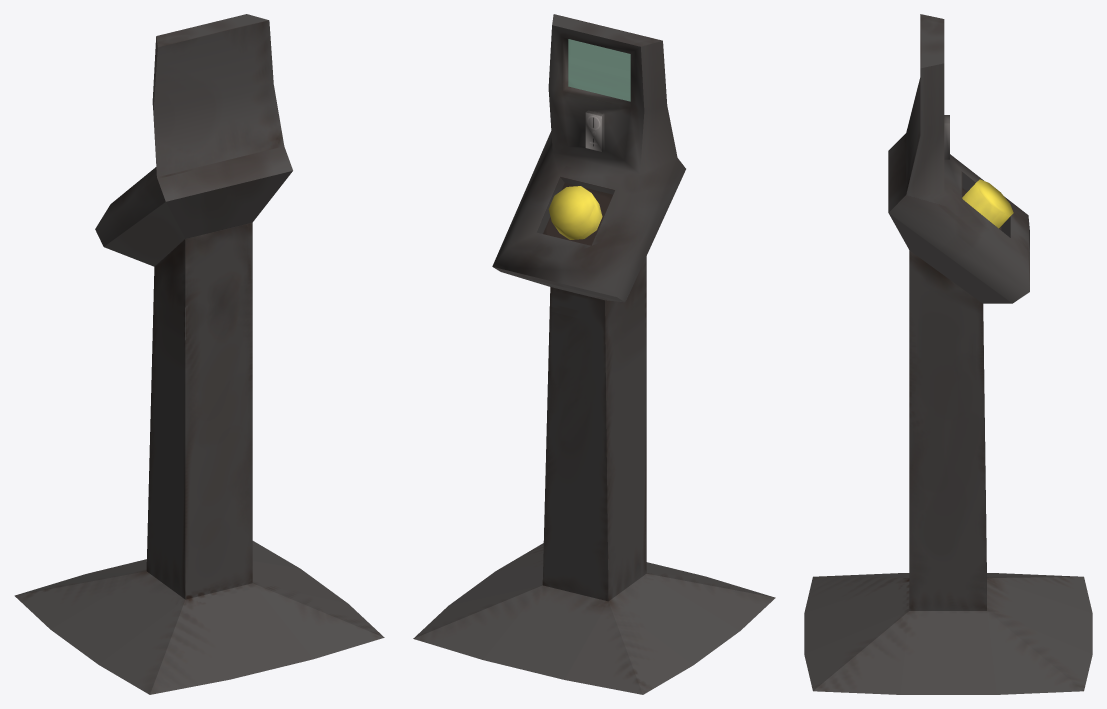
File: BotonComprar4.fbx
3 views of the same model, side by side, from view 1: azimuth 30°, elevation 25°; view 2: azimuth 150°, elevation 25°; view 3: azimuth 270°, elevation 25° (orthographic). The views are drawn at different scales.
Visible parts, largest first — view 1: Cube; view 2: Cube, Cube.001; view 3: Cube, Cube.001.
Boxes of the visible parts, x1,y1,x2,y2 form: Cube: (14,14,384,694); Cube: (413,14,775,694); Cube.001: (548,186,602,239); Cube: (804,14,1092,694); Cube.001: (962,179,1013,228).
Bounding box in the file's own units: 200 × 453 × 200.
1 material, 1 textured.
